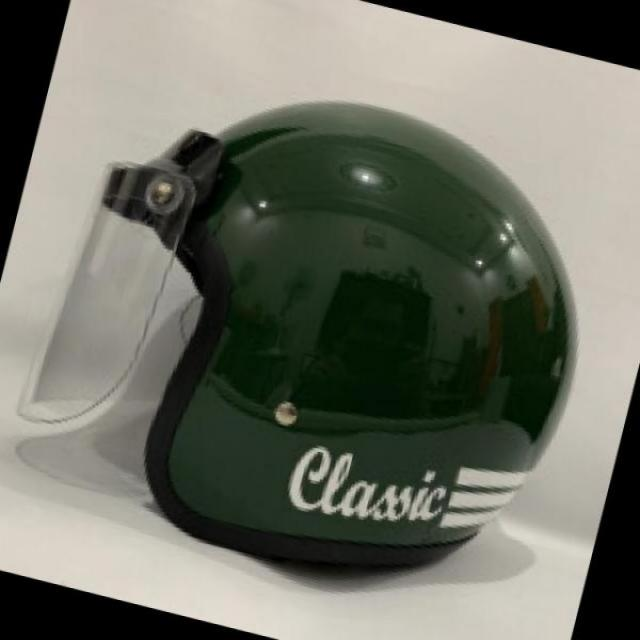Helmet: (54, 54, 582, 574)
